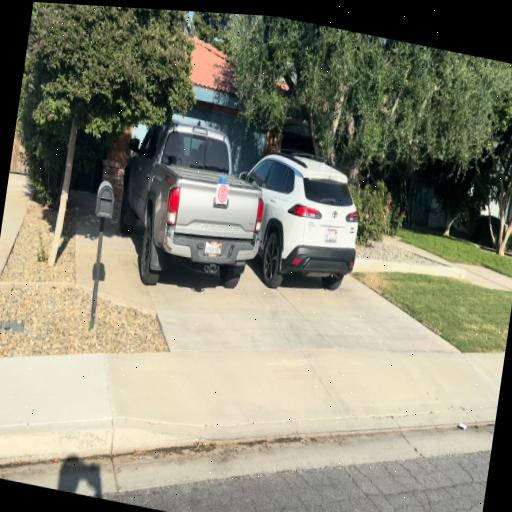bullseye: (216, 184, 229, 205)
